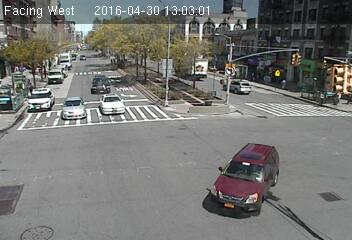neg: (318, 66, 348, 105), (267, 190, 296, 229), (199, 176, 225, 210), (110, 36, 135, 70), (203, 17, 224, 46), (6, 176, 27, 204), (64, 92, 84, 120), (325, 185, 345, 212), (29, 129, 48, 154), (13, 46, 30, 70), (228, 153, 245, 176), (224, 78, 240, 99), (75, 51, 88, 68), (290, 52, 301, 68), (37, 217, 47, 230), (152, 65, 159, 75), (183, 91, 189, 100)
pos: (279, 77, 289, 90)
